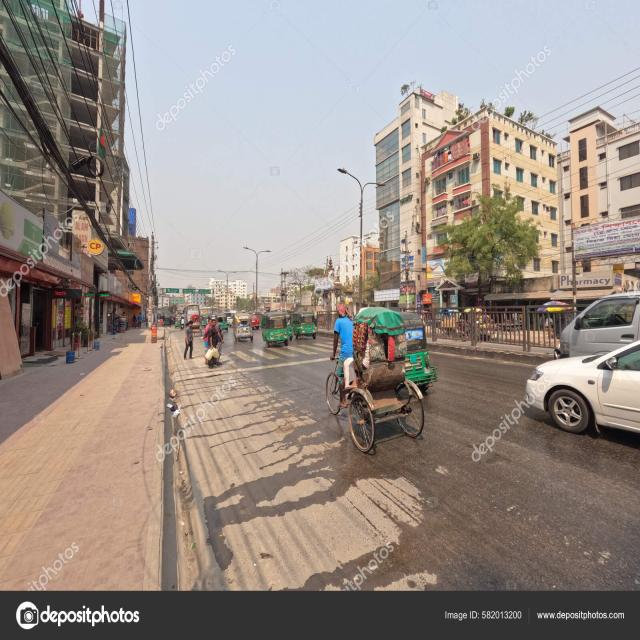car: (518, 325, 640, 440)
rickshaw: (334, 309, 422, 468)
